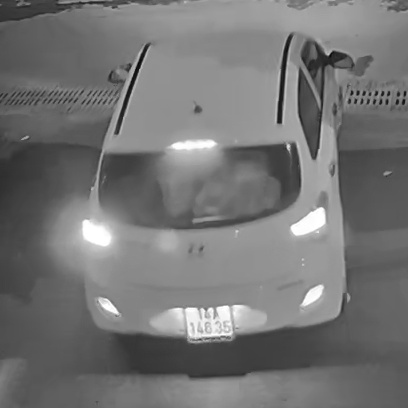vehicle plate: (180, 302, 234, 346)
